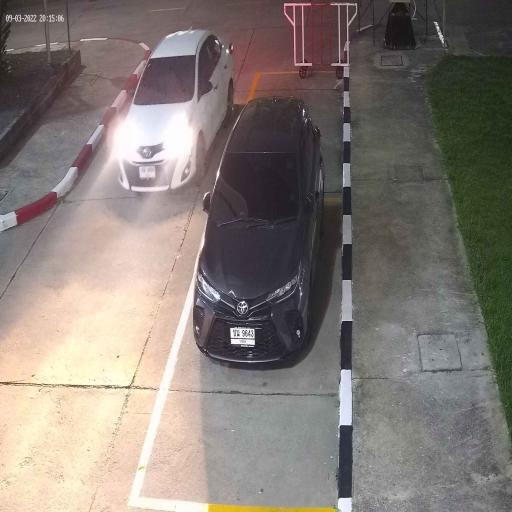car: (194, 94, 325, 368), (115, 28, 235, 195)
